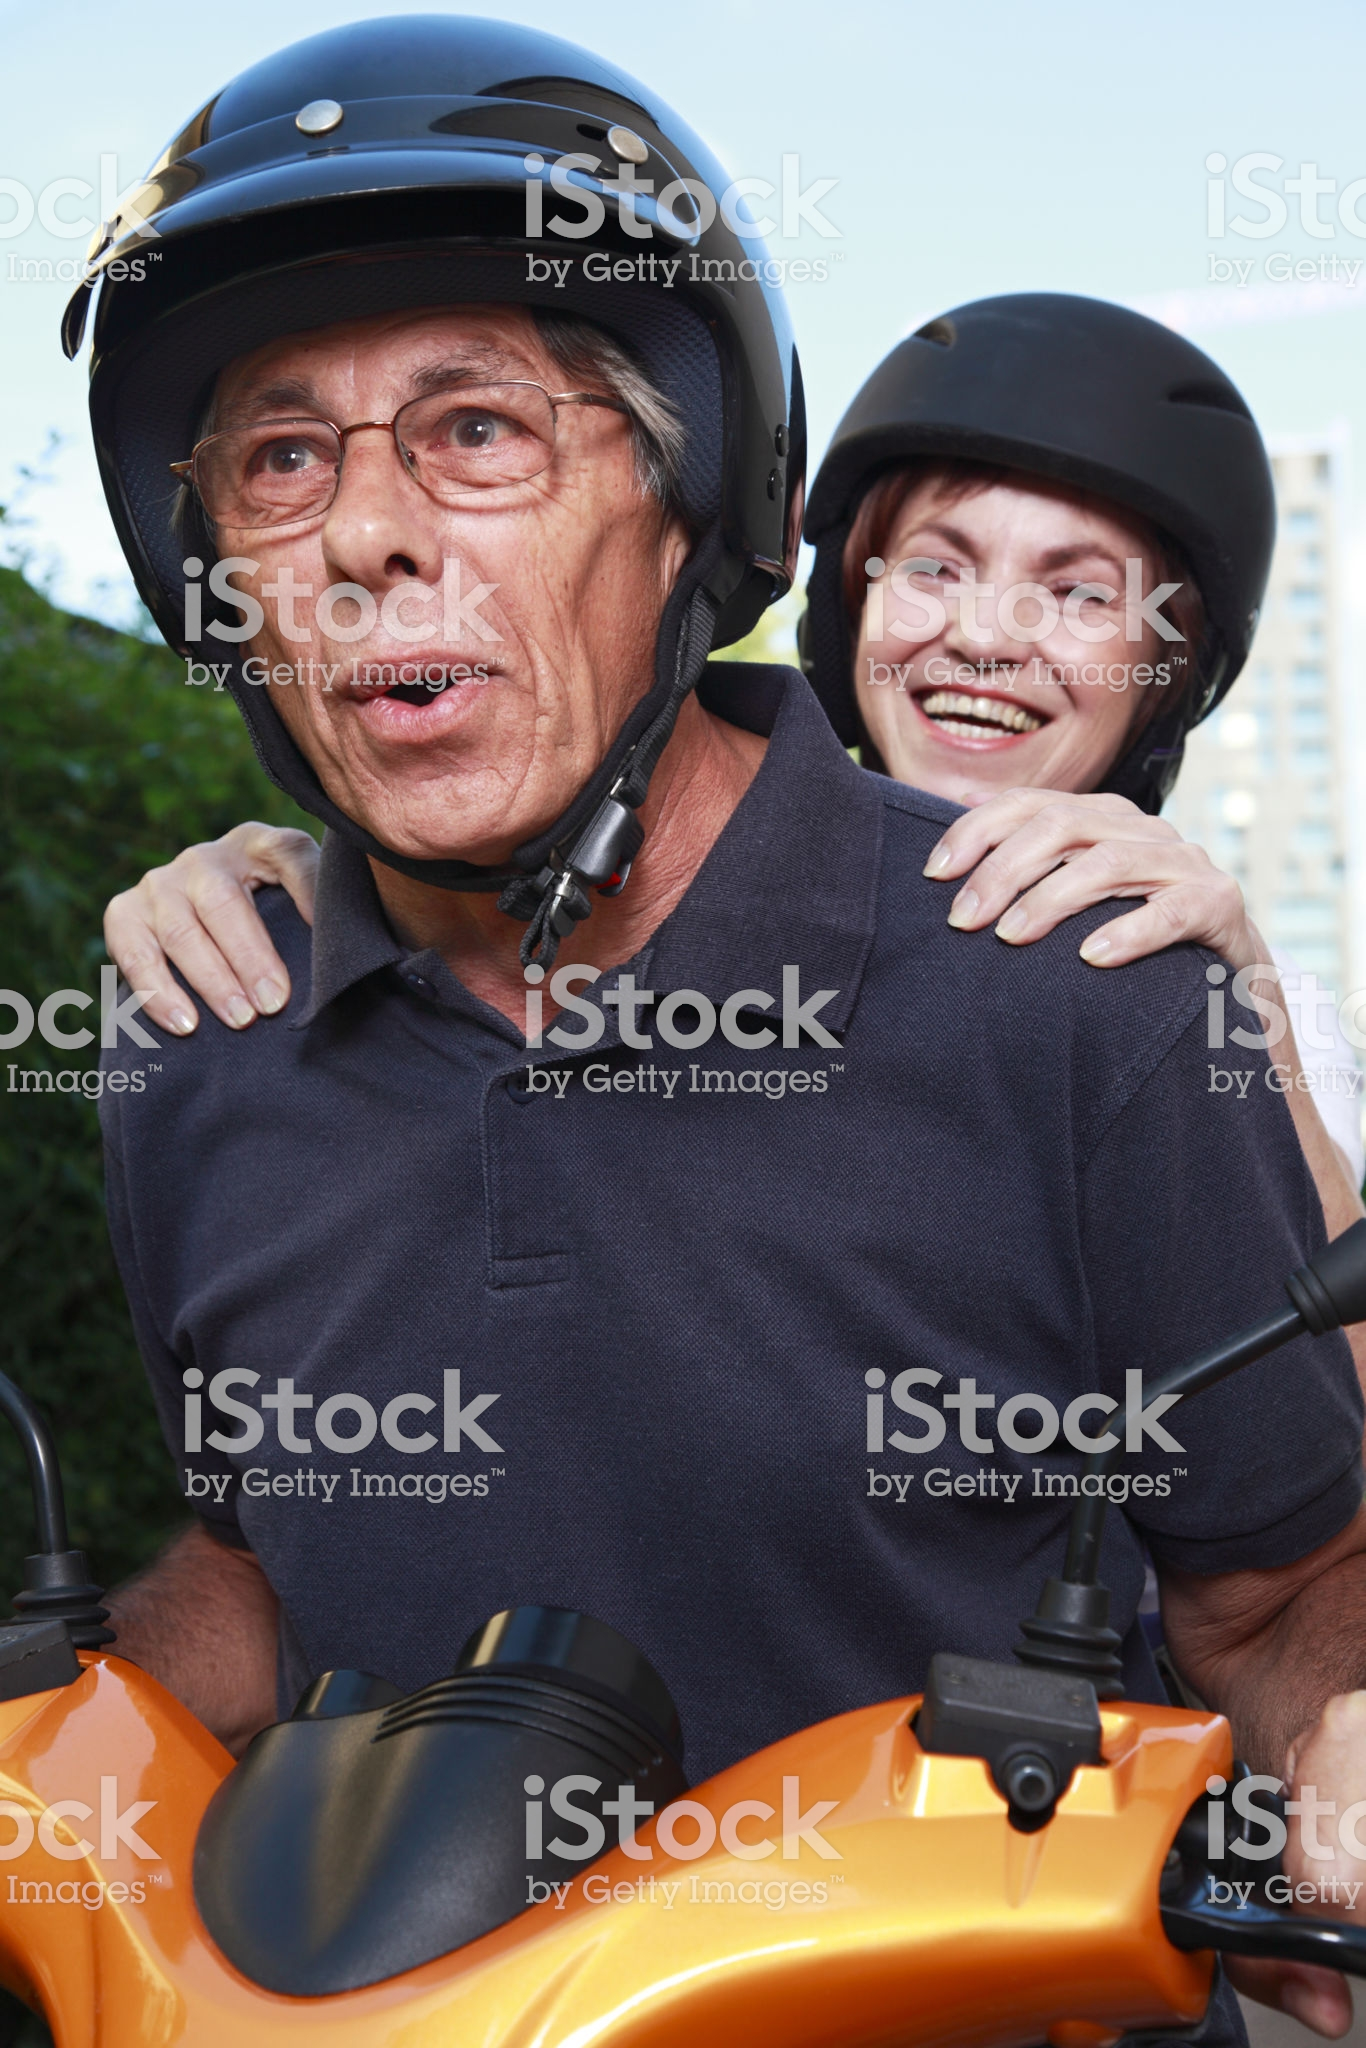helmet: (59, 50, 860, 562), (823, 241, 1294, 635)
